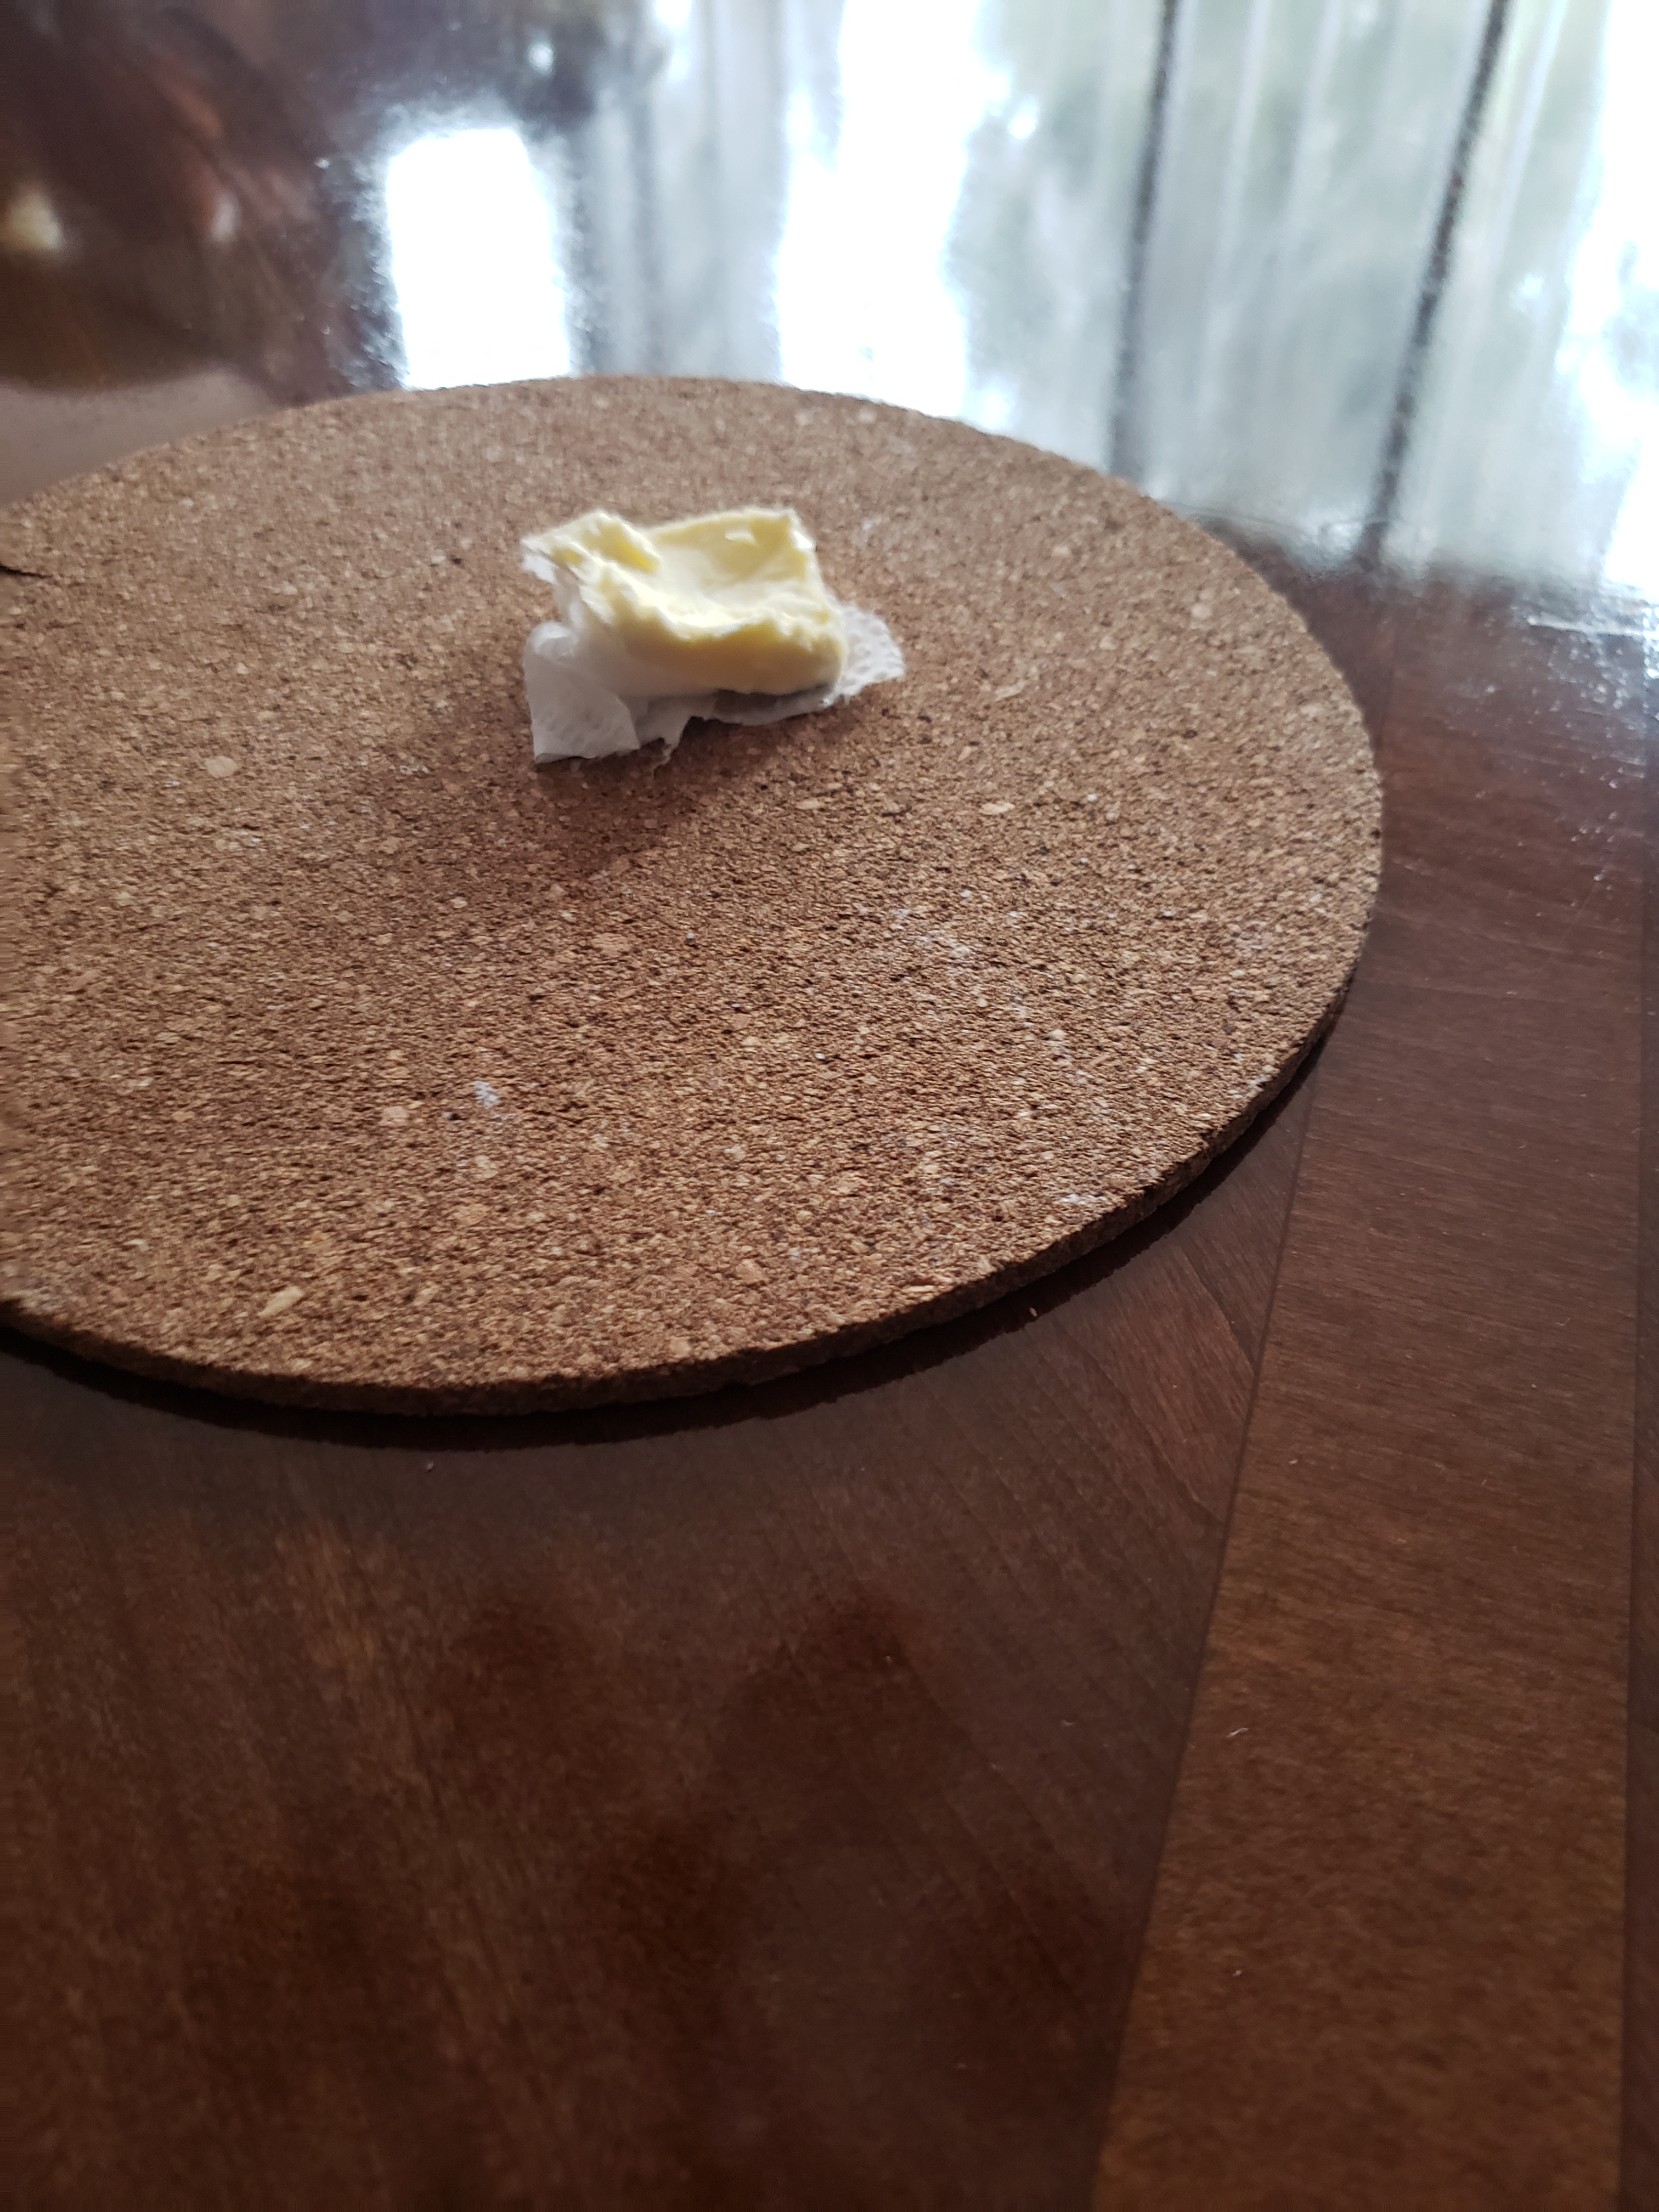Butter: (582, 510, 828, 676)
